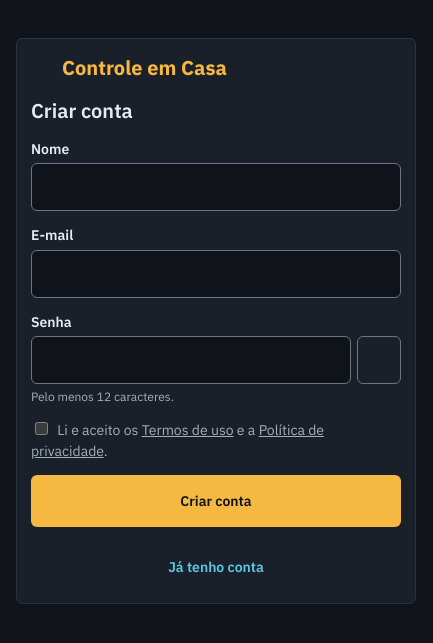
it: Cadastro (CA-19.1, CA-19.3, CA-19.4, CA-19.7) › sem aceitar os termos não envia e foca o aceite
Type "Ana Souza" into the field labelled "Nome" at (216, 187), box [31, 163, 401, 211]
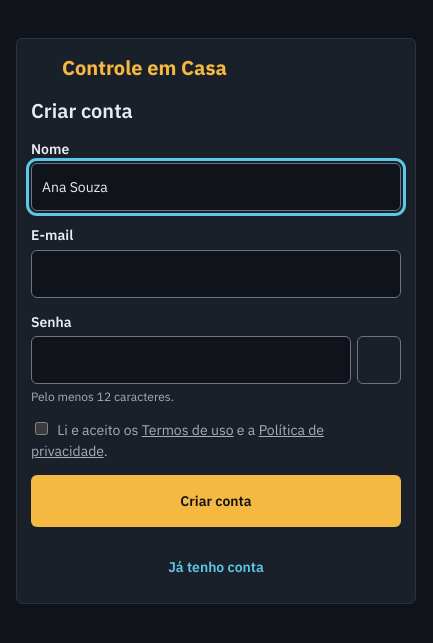
Type "ana@exemplo.com" into the field labelled "E-mail" at (216, 274), box [31, 250, 401, 298]
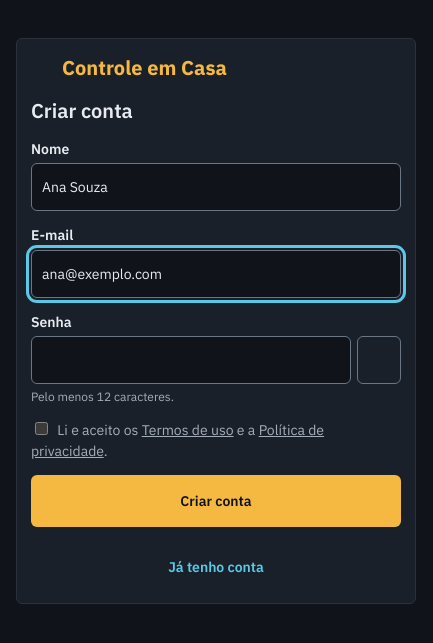
Type "senha-bem-longa-1" into the password field labelled "Senha" at (191, 360), box [31, 336, 351, 384]
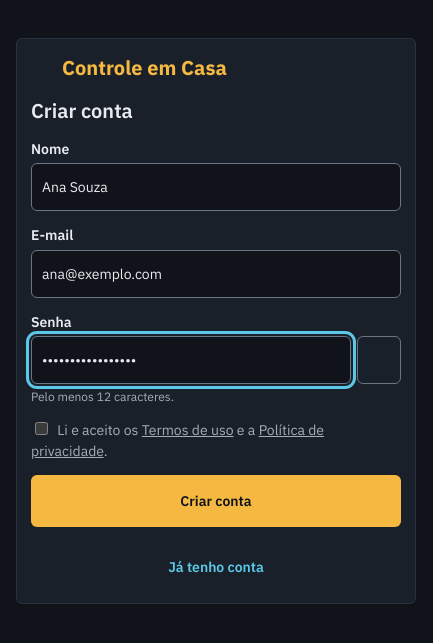
Click the button "Criar conta" at (216, 501), box [31, 475, 401, 527]
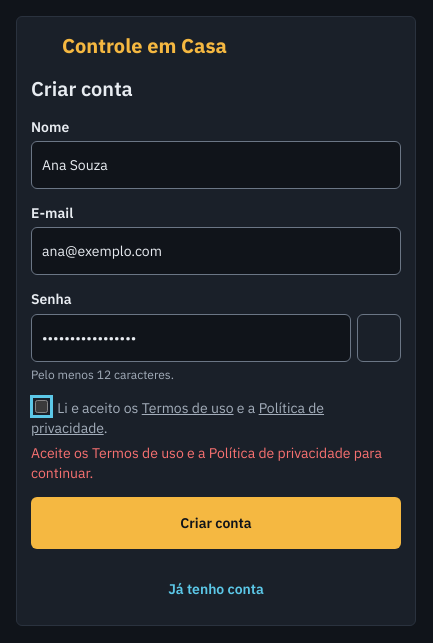
Check: the text "Aceite os Termos de uso" is shown, box [31, 444, 382, 482]
